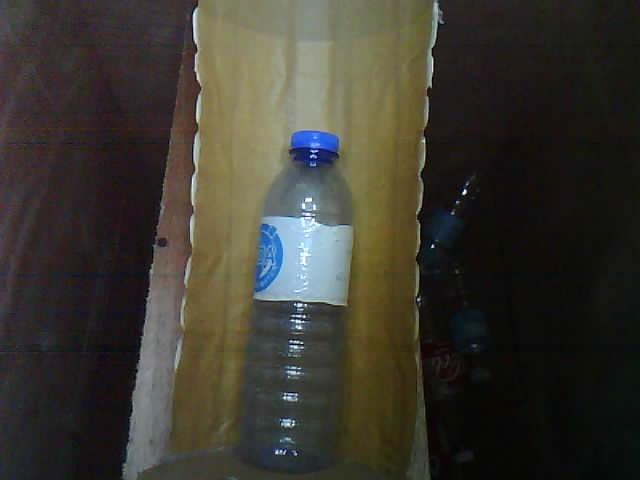small_bottle: (222, 122, 366, 480)
